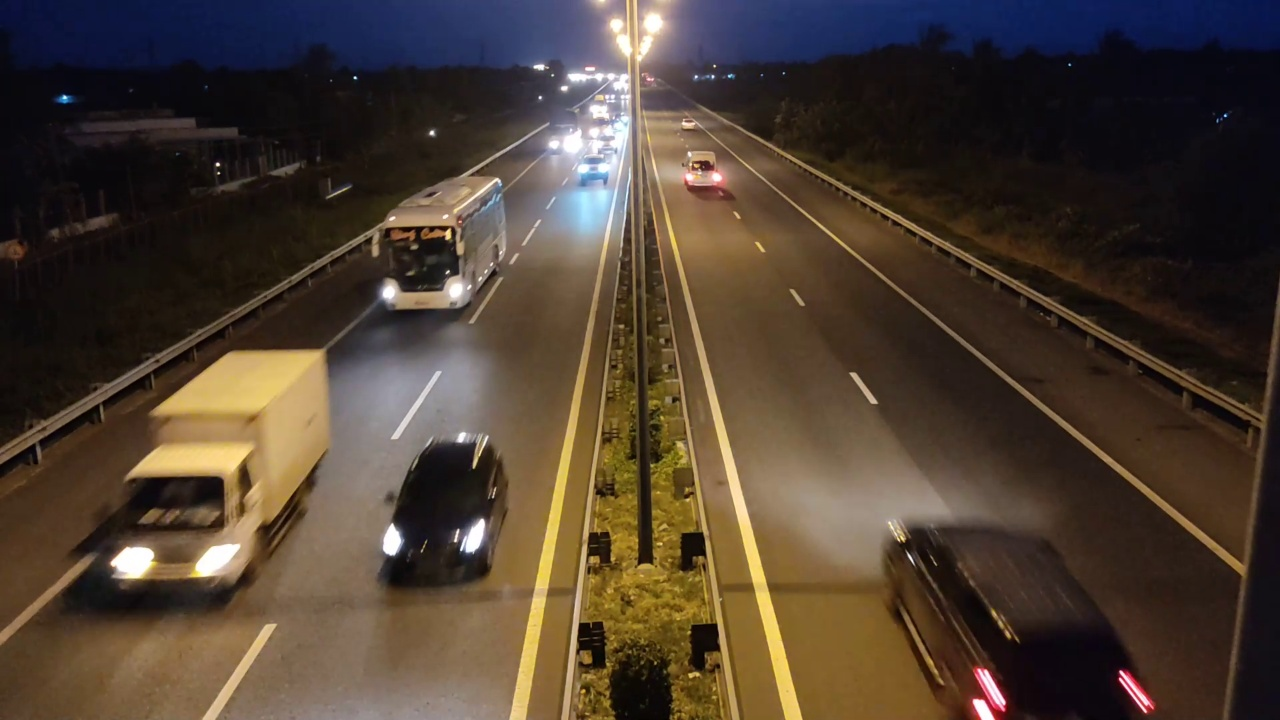bus: (377, 174, 508, 314)
car: (879, 515, 1157, 720), (377, 429, 509, 585), (575, 155, 612, 187)
truck: (69, 347, 334, 608)
